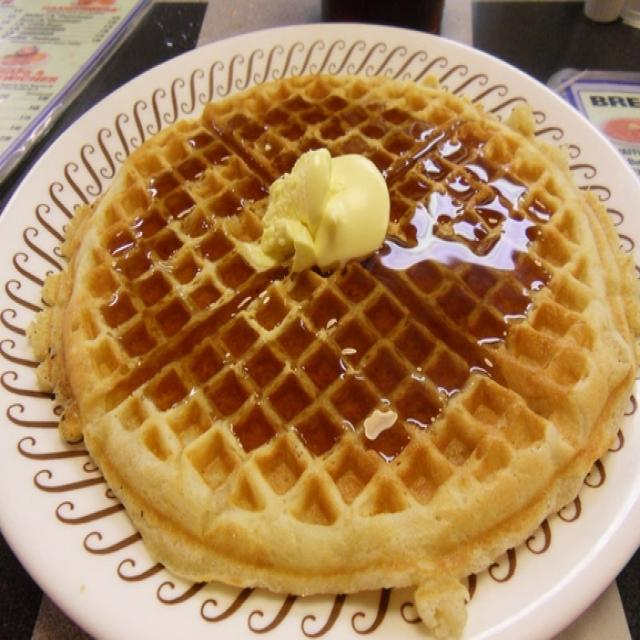炸货点心: (15, 31, 628, 624)
蛋糕甜品: (15, 31, 628, 624)
